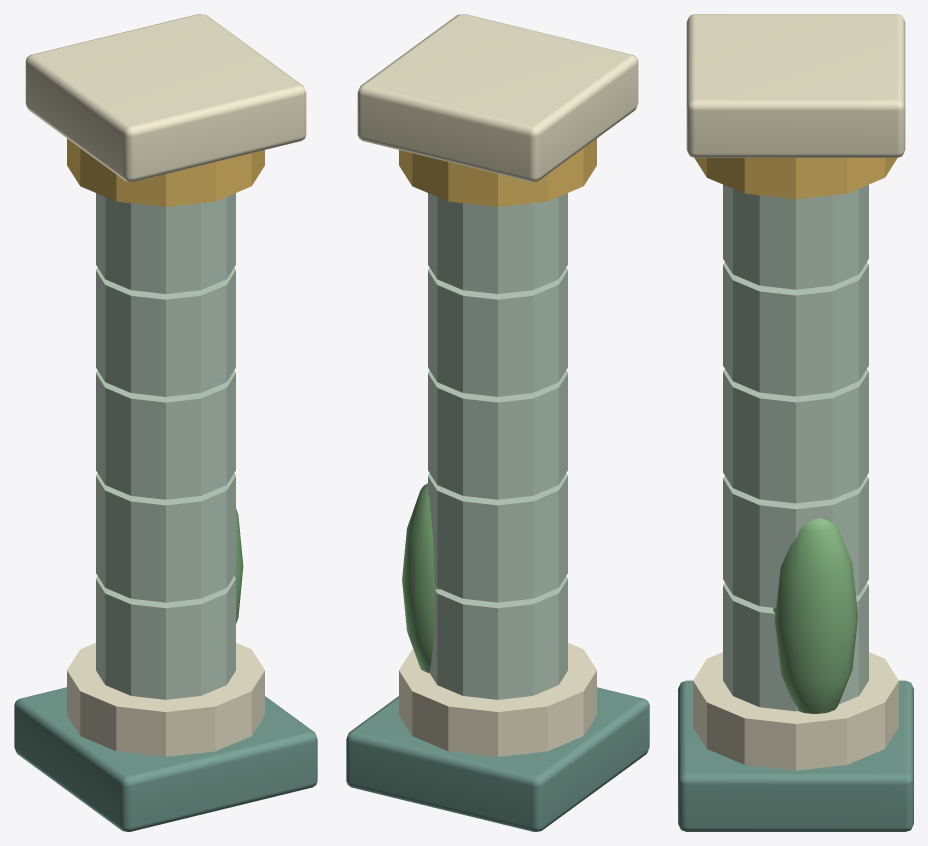
Rendered from ruins_column.glb.
3 renders of one model, left to right at view 1: azimuth 30°, elevation 25°; view 2: azimuth 150°, elevation 25°; view 3: azimuth 270°, elevation 25°, orthographic. The views are drawn at different scales.
Parts seen in each view (by area): view 1: Capital, Foot, ColumnDrum.002, ColumnDrum.003, ColumnDrum.001, ColumnDrum, Base, ColumnDrum.004, Neck, Ivy; view 2: Capital, Foot, ColumnDrum.002, ColumnDrum.003, ColumnDrum.001, ColumnDrum, Base, ColumnDrum.004, Neck, Ivy; view 3: Capital, Foot, ColumnDrum.002, ColumnDrum.003, Base, Ivy, ColumnDrum.004, ColumnDrum.001, ColumnDrum, Neck.
Boxes of the visible parts, bbox=[...] form: Capital: bbox=[25, 14, 306, 181]; Foot: bbox=[14, 687, 317, 831]; ColumnDrum.002: bbox=[96, 370, 235, 499]; ColumnDrum.003: bbox=[96, 267, 235, 396]; ColumnDrum.001: bbox=[96, 473, 235, 602]; ColumnDrum: bbox=[96, 576, 235, 699]; Base: bbox=[67, 643, 264, 756]; ColumnDrum.004: bbox=[96, 193, 235, 293]; Neck: bbox=[67, 138, 264, 206]; Ivy: bbox=[234, 508, 243, 623]; Capital: bbox=[357, 14, 638, 181]; Foot: bbox=[346, 687, 649, 831]; ColumnDrum.002: bbox=[428, 370, 567, 499]; ColumnDrum.003: bbox=[428, 267, 567, 396]; ColumnDrum.001: bbox=[428, 473, 567, 602]; ColumnDrum: bbox=[429, 576, 567, 699]; Base: bbox=[399, 643, 596, 756]; ColumnDrum.004: bbox=[428, 193, 567, 293]; Neck: bbox=[399, 138, 596, 206]; Ivy: bbox=[402, 483, 439, 672]; Capital: bbox=[686, 14, 905, 157]; Foot: bbox=[678, 680, 913, 831]; ColumnDrum.002: bbox=[723, 369, 868, 503]; ColumnDrum.003: bbox=[723, 262, 868, 396]; Base: bbox=[693, 652, 898, 770]; Ivy: bbox=[773, 518, 857, 713]; ColumnDrum.004: bbox=[723, 184, 868, 289]; ColumnDrum.001: bbox=[723, 476, 868, 607]; ColumnDrum: bbox=[723, 583, 868, 711]; Neck: bbox=[694, 158, 897, 199].
Size of the model in its own units: 1.1 by 3.75 by 1.1.
